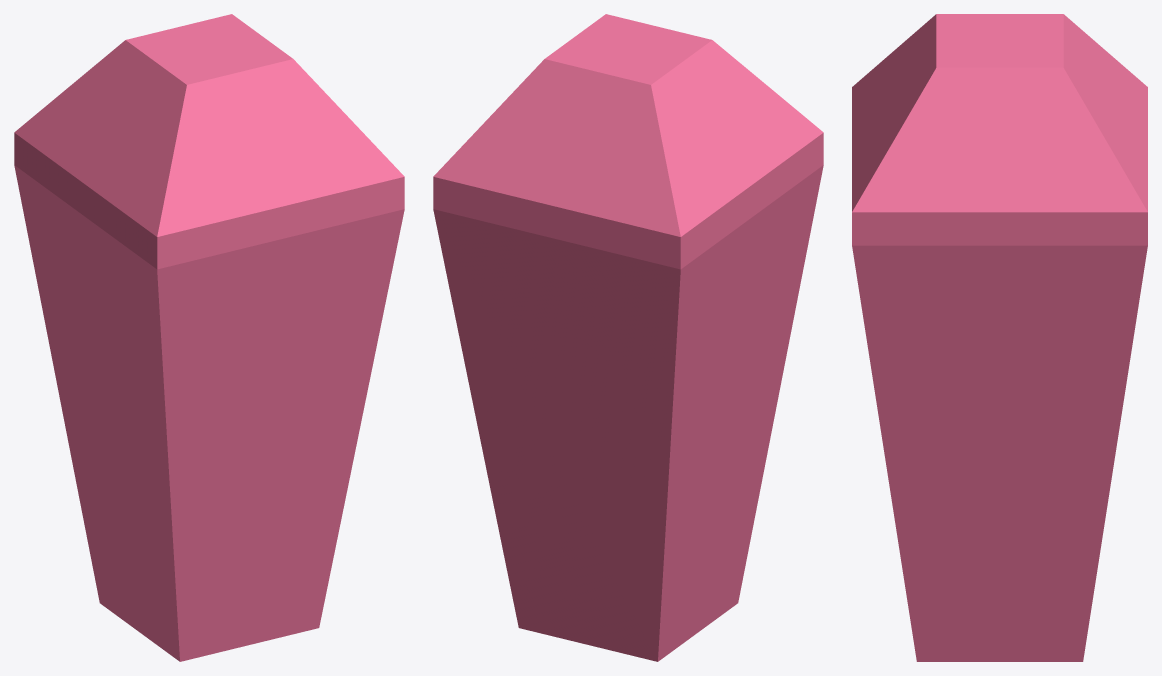
File: detail_crystal.dae
The picture shows the model from 3 angles, left to right: view 1: azimuth 30°, elevation 25°; view 2: azimuth 150°, elevation 25°; view 3: azimuth 270°, elevation 25°; orthographic projection. The views are drawn at different scales.
Visible parts, largest first — view 1: detail_crystal; view 2: detail_crystal; view 3: detail_crystal.
Part boxes in pixels (x1,y1,x2,y2): detail_crystal: (14,14,404,661); detail_crystal: (433,14,823,661); detail_crystal: (852,14,1147,661).
Size of the model in its own units: 0.1602 by 0.35 by 0.1602.
